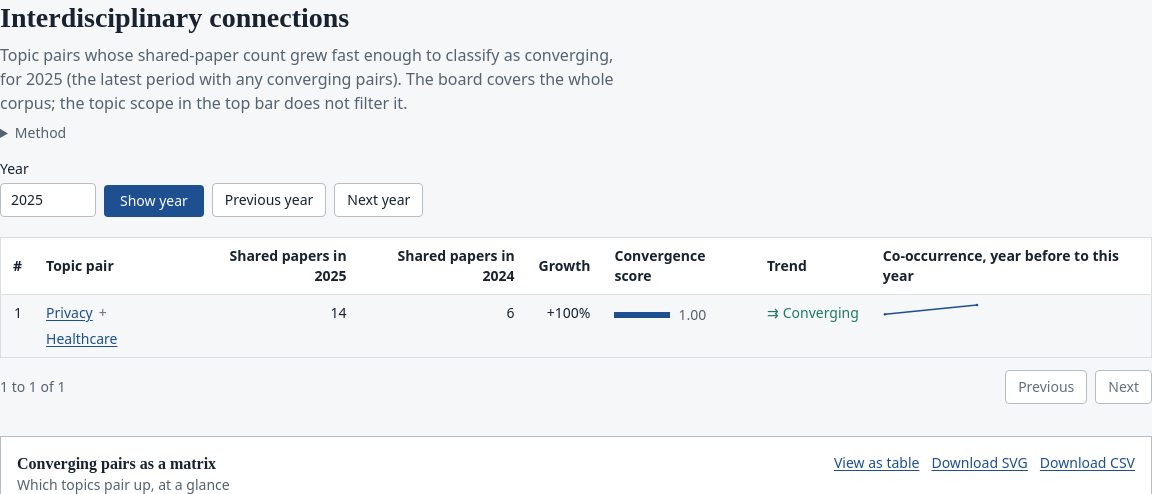
Test: ConnectionsBoard › opens a pair's co-occurrence trajectory in a drawer on row activation
The image size is (1152, 494).
Expected: the table named "Converging topic pairs" is shown, [1,238,1151,357]
Step 1. Click the text "Privacy" → (569, 312), box [1,295,1151,357]
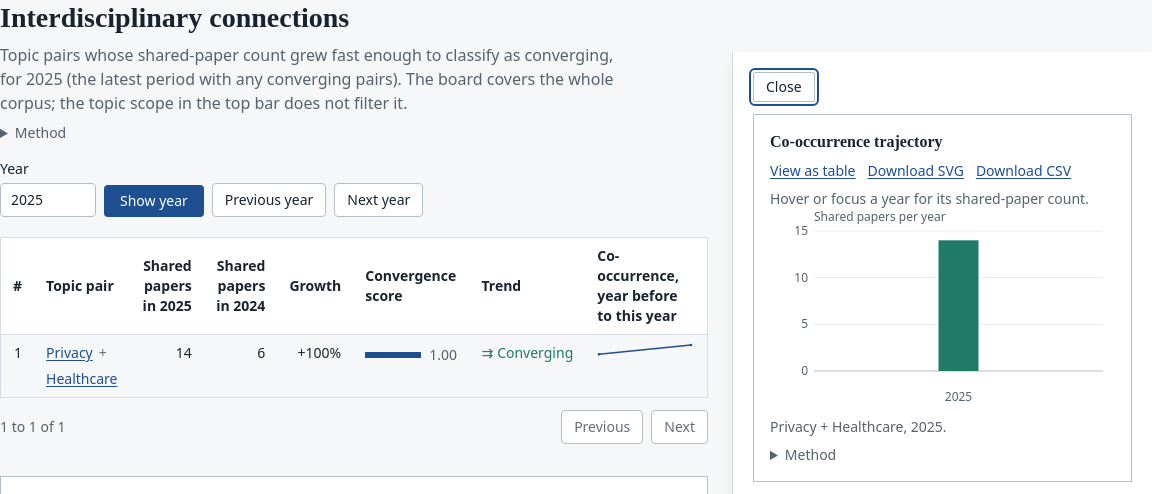
Now the heading "Co-occurrence trajectory" is shown, box [770,131,942,153]
